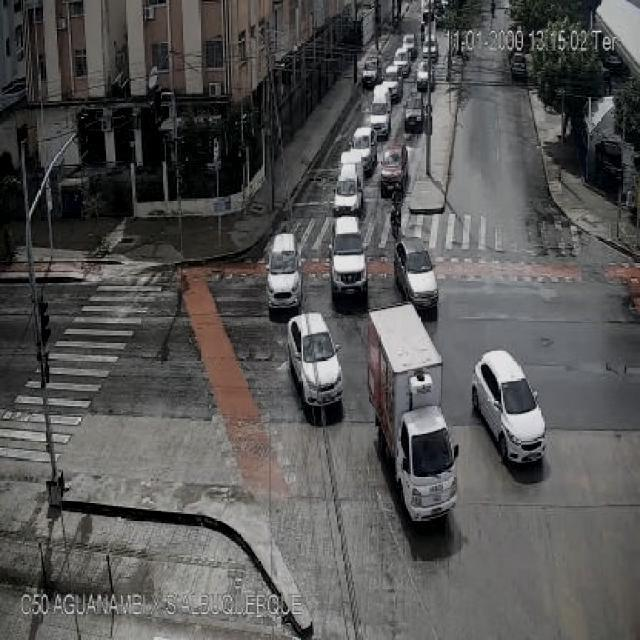Car: (473, 338, 551, 476), (282, 309, 346, 413), (322, 216, 372, 303), (258, 232, 306, 312), (392, 232, 443, 304), (324, 155, 361, 213), (376, 139, 412, 193), (341, 125, 377, 171), (362, 90, 398, 136), (398, 92, 432, 137)
Cycle: (379, 190, 416, 238)
Truck: (348, 299, 468, 522)
